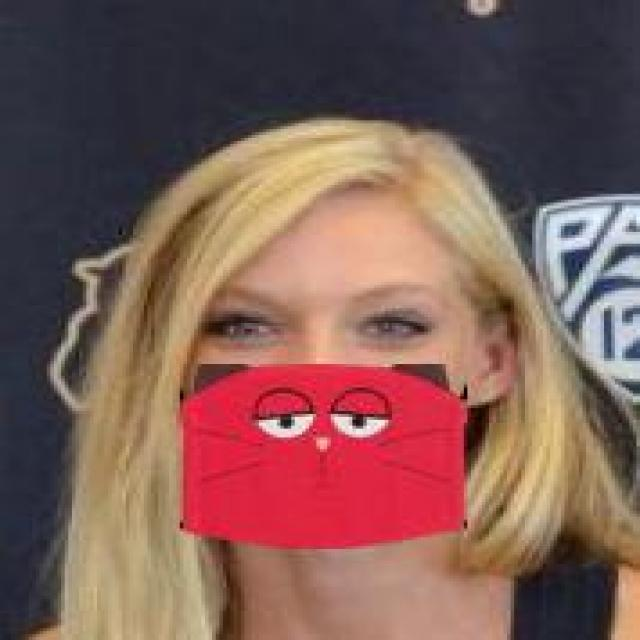mask: (136, 85, 564, 576)
